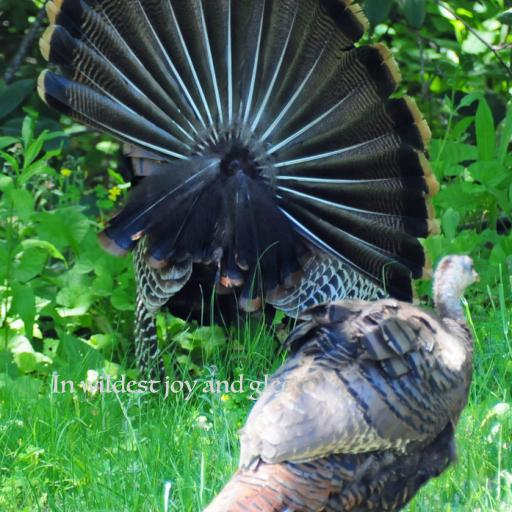Luminari: (50, 374, 298, 401)
